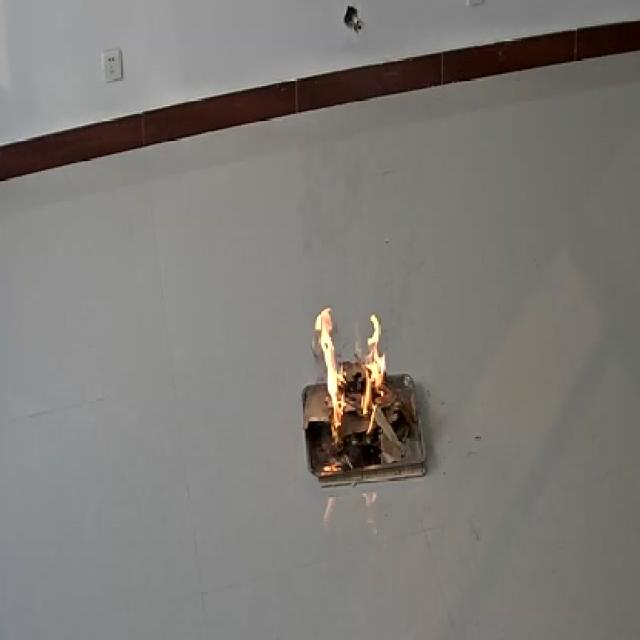Fire: (308, 303, 397, 437)
